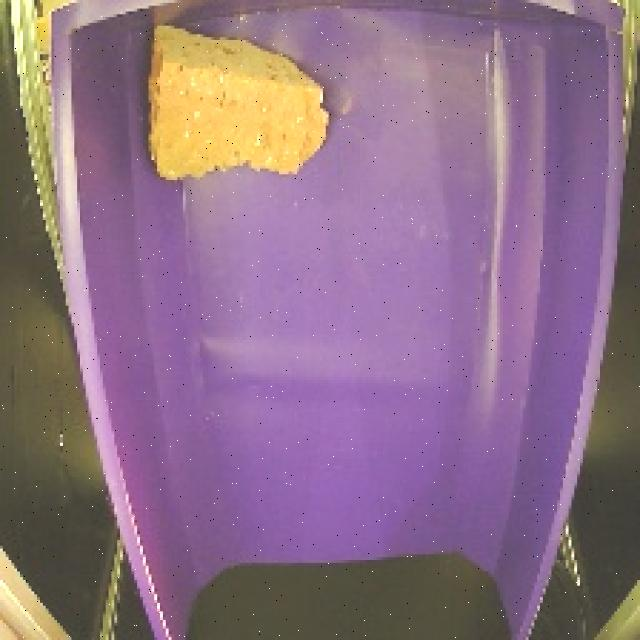brick: (137, 17, 340, 190)
